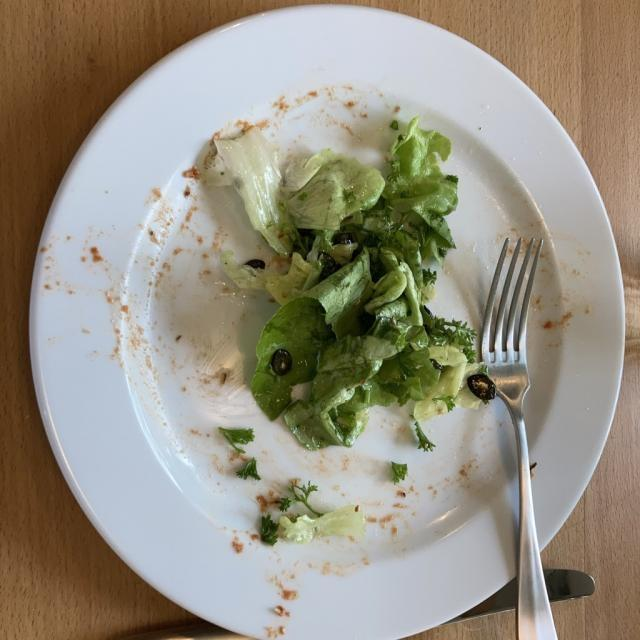salad: (237, 105, 476, 442)
